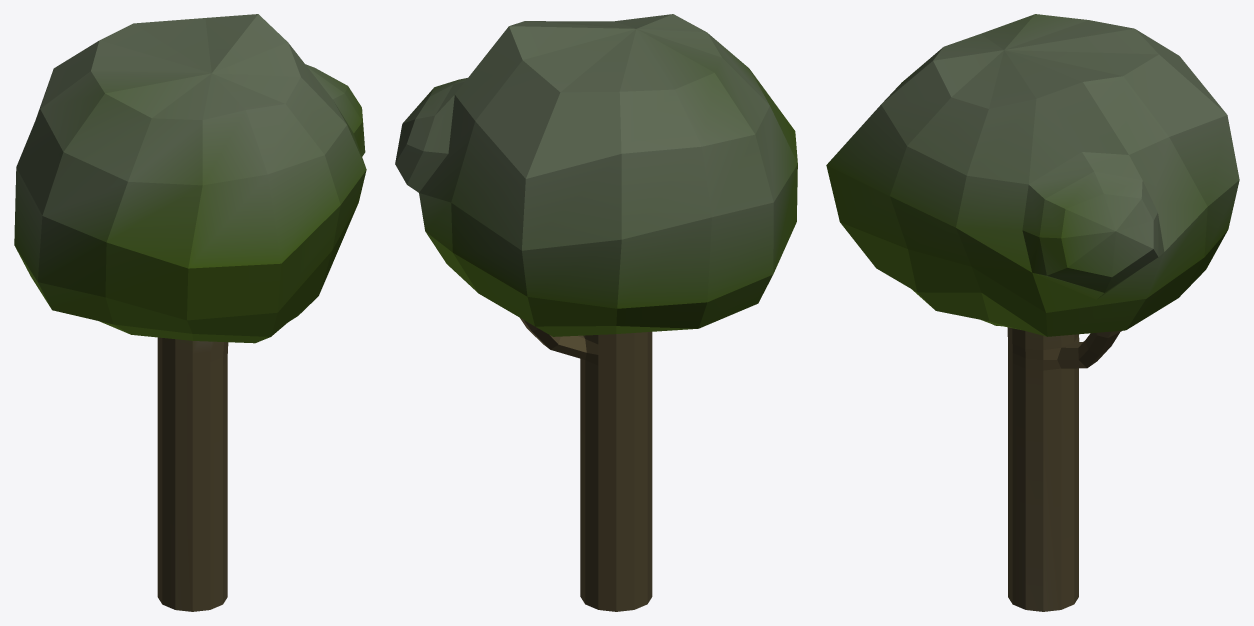
The model's file is drzewko1.fbx.
3 views of the same model, side by side, from view 1: azimuth 30°, elevation 25°; view 2: azimuth 150°, elevation 25°; view 3: azimuth 270°, elevation 25° (orthographic). The views are drawn at different scales.
Parts seen in each view (by area): view 1: Cylinder; view 2: Cylinder; view 3: Cylinder.
Part boxes in pixels (box(x1,y1,x2,y2)): Cylinder: box(14, 14, 366, 611); Cylinder: box(395, 14, 797, 611); Cylinder: box(826, 14, 1239, 611).
Bounding box in the file's own units: 964 × 1500 × 1008.
